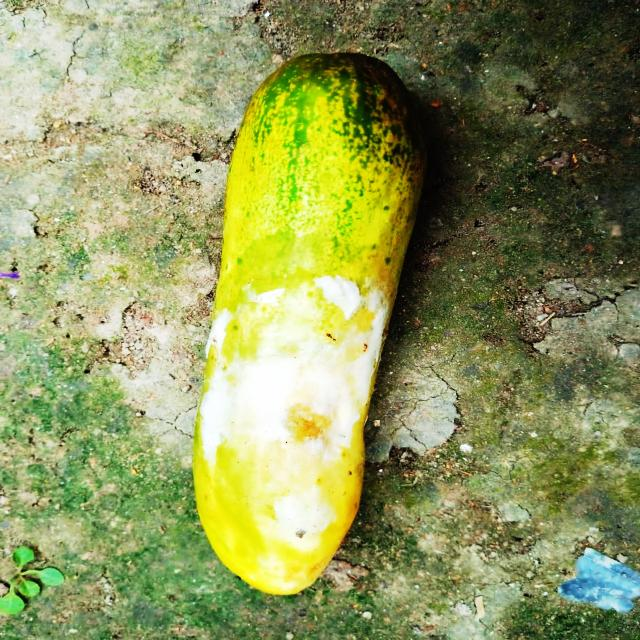Pythium-Fruit-Rot: (193, 271, 390, 535)
